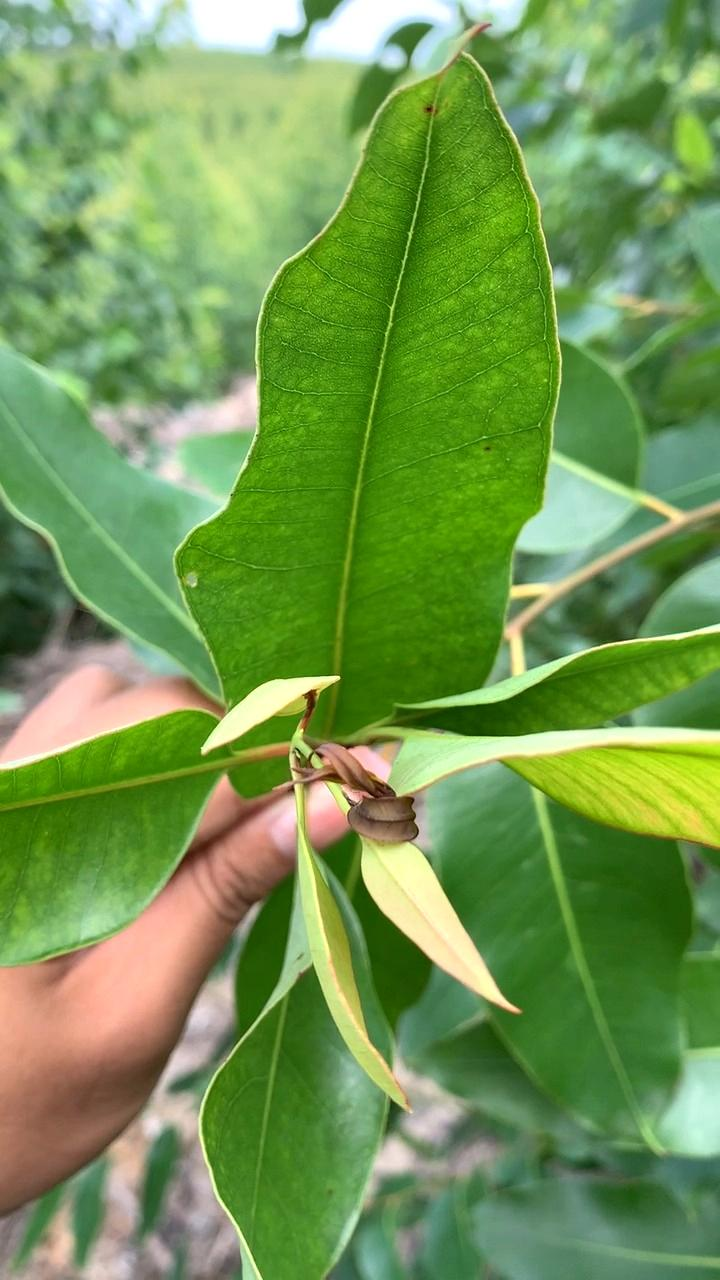Helopeltis-Withered Sprout: (307, 746, 418, 841)
